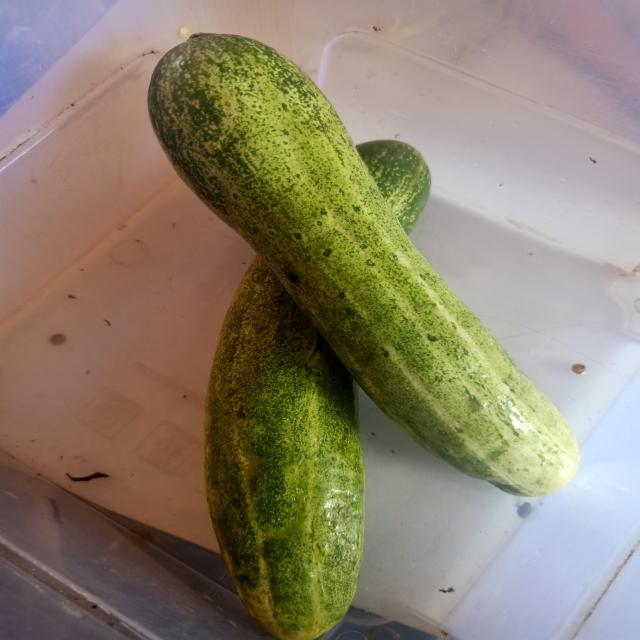Cucumber: (147, 32, 579, 497), (205, 256, 364, 640), (358, 140, 430, 233)
